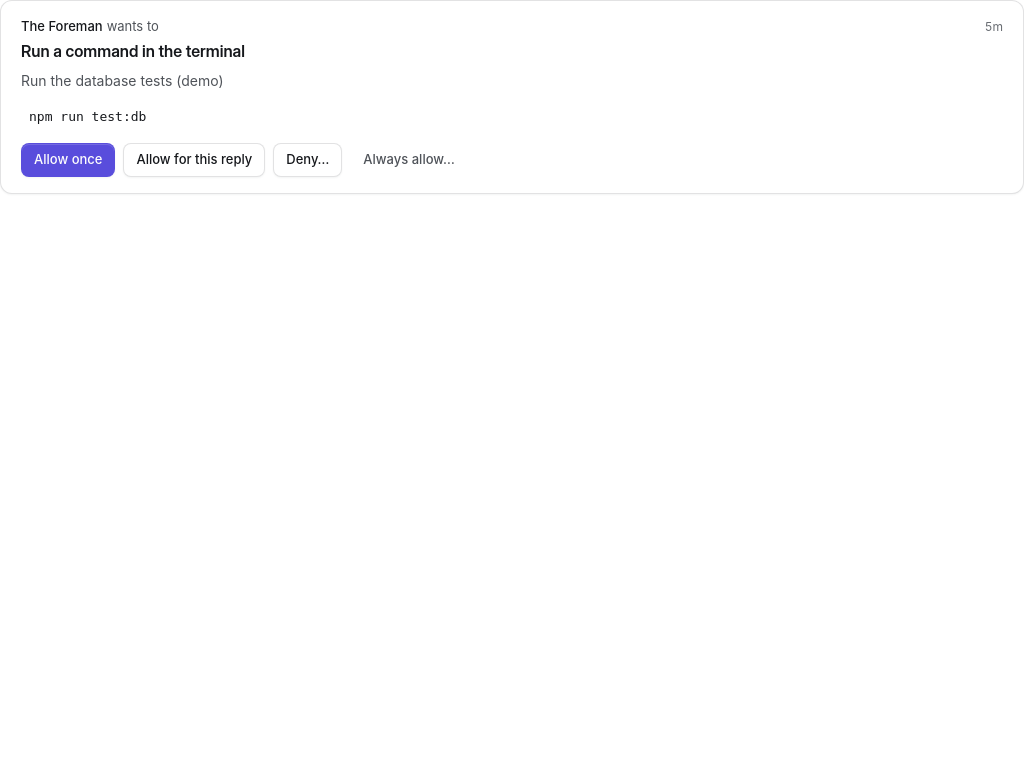
Test: Always allow… › Cancel and Escape close it without saving
Click the button "Always allow…" at (409, 160), box [350,143,468,177]
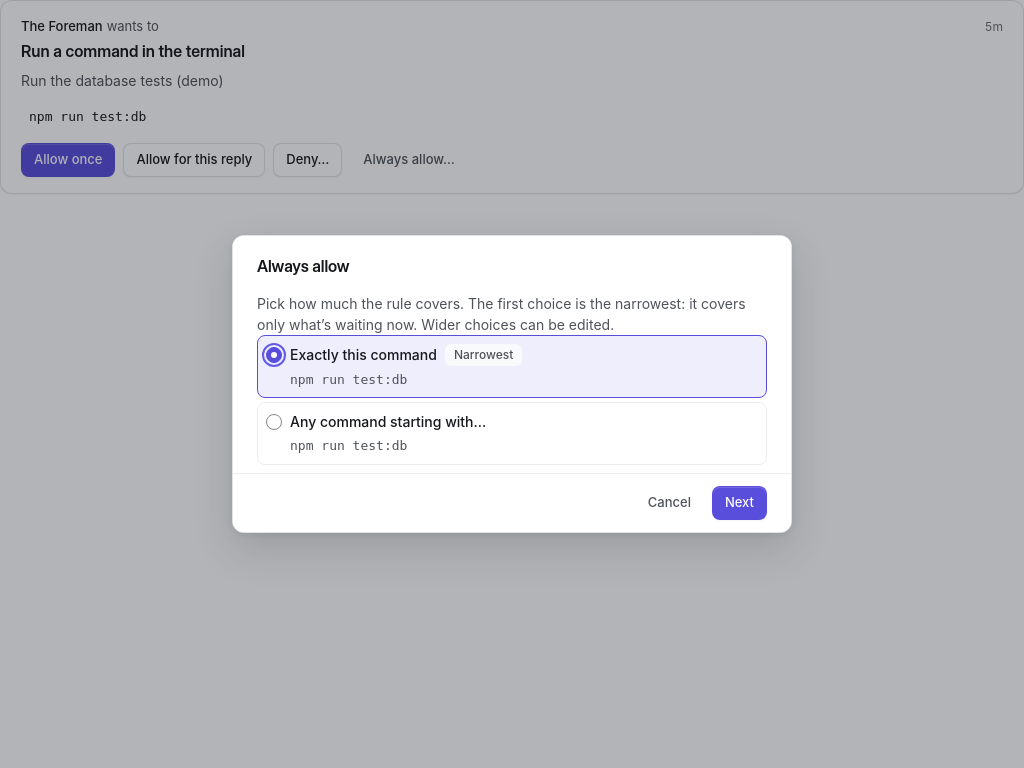
Click the button "Cancel" at (669, 503), box [635,486,704,520]
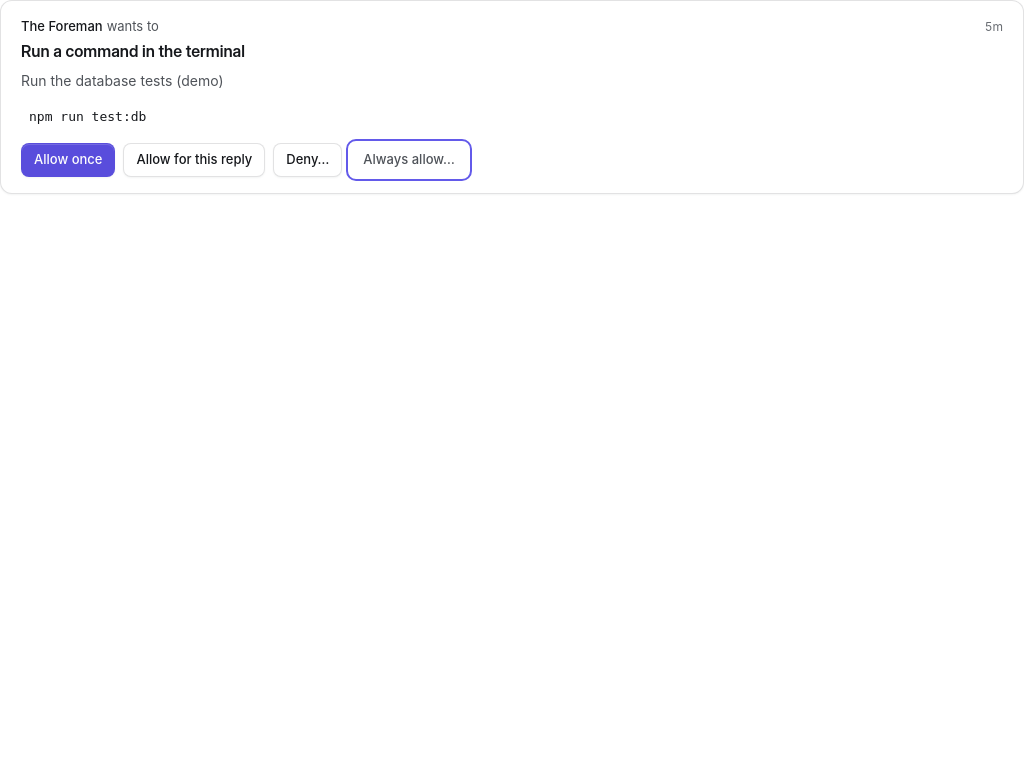
Now the dialog is gone
Click the button "Always allow…" at (409, 160), box [350,143,468,177]
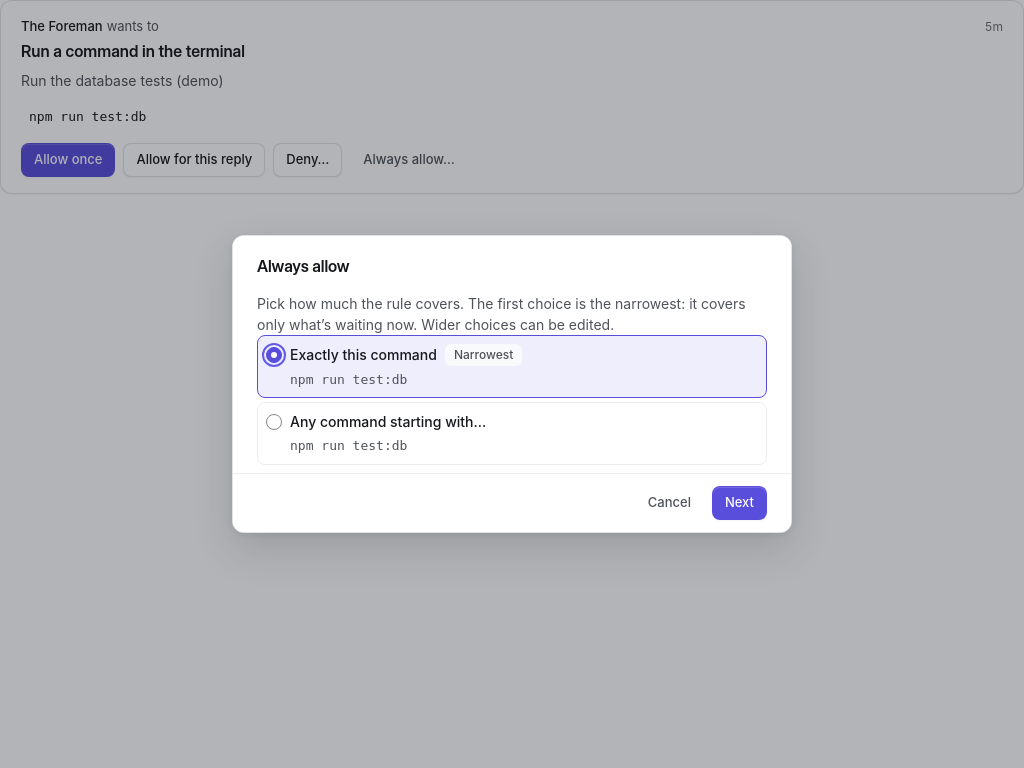
Press Escape
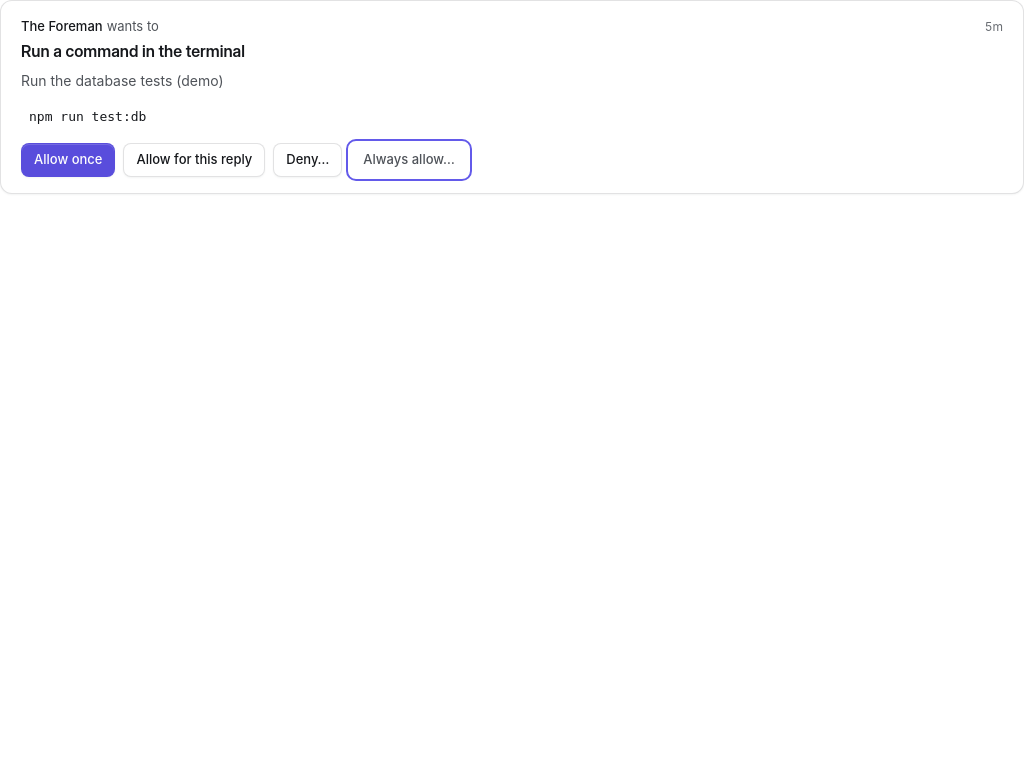
Now the dialog is gone
